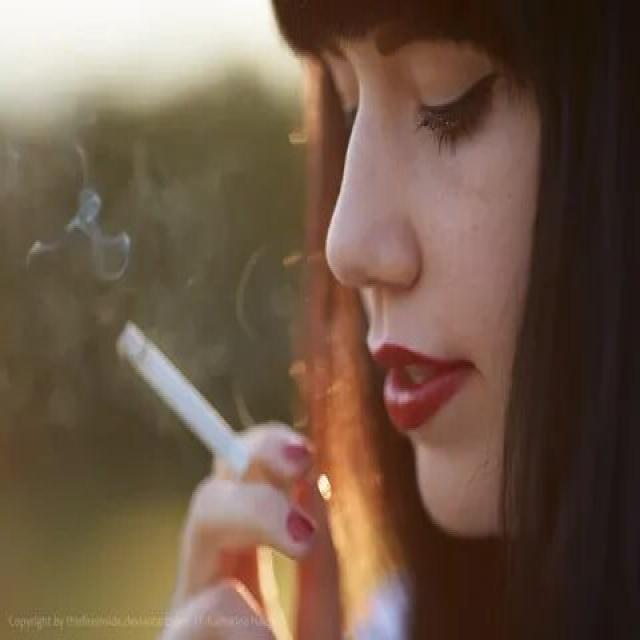cigarette: (112, 308, 297, 518)
